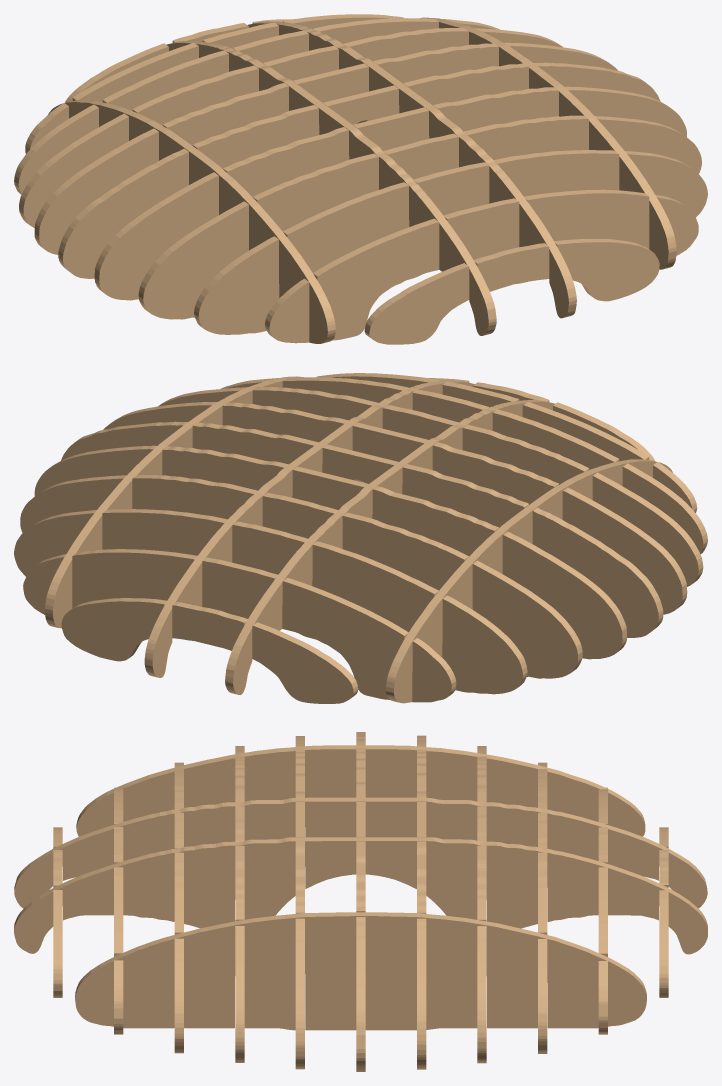
Rendered from samla.glb.
3 renders of one model, top to bottom at view 1: azimuth 30°, elevation 25°; view 2: azimuth 150°, elevation 25°; view 3: azimuth 270°, elevation 25°, orthographic.
Visible parts, largest first — view 1: slicer-hatttopp; view 2: slicer-hatttopp; view 3: slicer-hatttopp.
Part boxes in pixels (x1=…): slicer-hatttopp: x1=14, y1=14, x2=707, y2=344; slicer-hatttopp: x1=14, y1=373, x2=707, y2=703; slicer-hatttopp: x1=14, y1=732, x2=707, y2=1071.
Bounding box in the file's own units: 0.3002 × 0.0638 × 0.2979.
